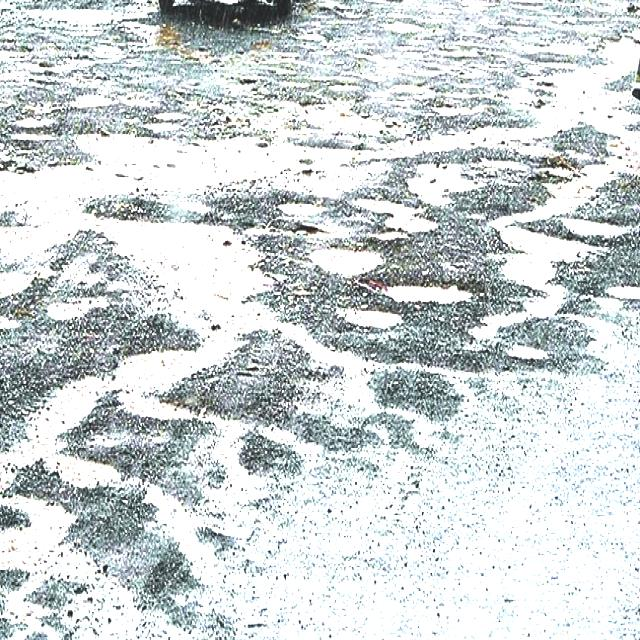Pothole: (46, 112, 638, 406)
